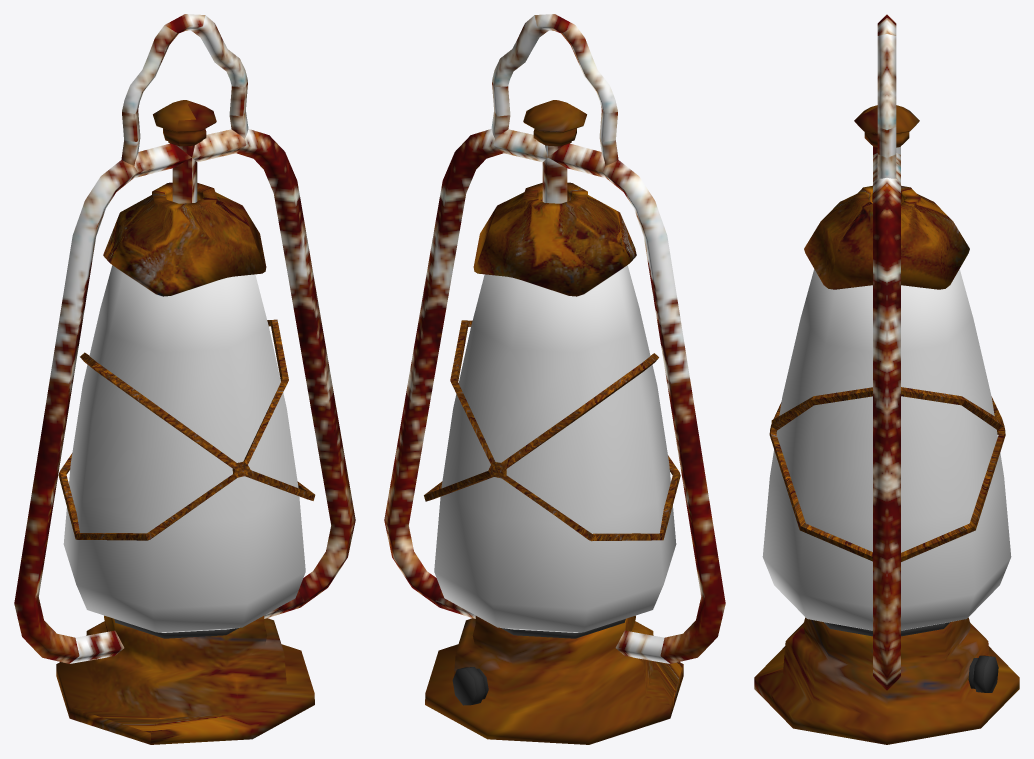
Rendered from mine_lamp.glb.
The picture shows the model from 3 angles, left to right: view 1: azimuth 30°, elevation 25°; view 2: azimuth 150°, elevation 25°; view 3: azimuth 270°, elevation 25°; orthographic projection.
Parts seen in each view (by area): view 1: glass, hold, top_, cape; view 2: glass, hold, top_, cape; view 3: glass, top_, hold, cape.
Part boxes in pixels (box(x1,y1,x2,y2)): glass: box(58, 265, 315, 632); hold: box(14, 14, 355, 663); top_: box(56, 100, 314, 744); cape: box(103, 182, 266, 296); glass: box(424, 265, 680, 632); hold: box(384, 14, 725, 663); top_: box(425, 100, 683, 744); cape: box(473, 182, 636, 296); glass: box(762, 269, 1011, 630); top_: box(754, 105, 1019, 744); hold: box(873, 14, 900, 690); cape: box(804, 185, 969, 289).
Bounding box in the file's own units: 2.51 × 4.74 × 1.7.
Materials: 5 (3 with a texture image).
